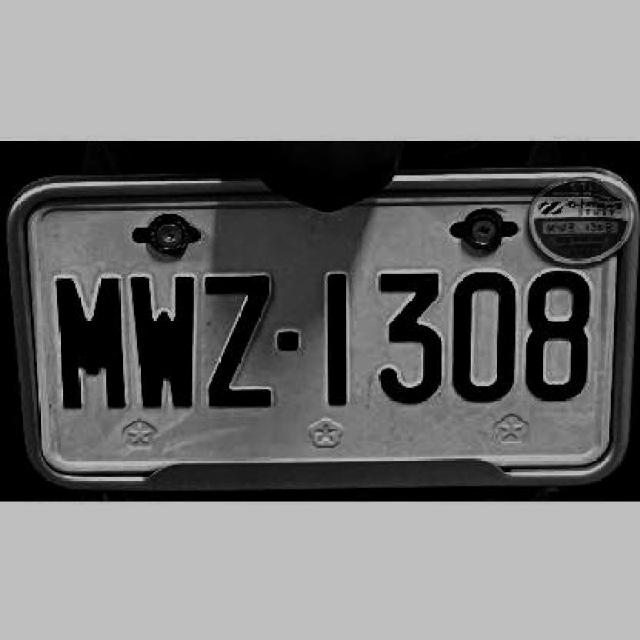-: (277, 326, 298, 349)
0: (449, 264, 520, 404)
1: (324, 269, 350, 400)
3: (374, 266, 443, 406)
8: (522, 266, 590, 406)
M: (52, 272, 126, 408)
W: (126, 269, 199, 411)
Z: (204, 265, 274, 412)
